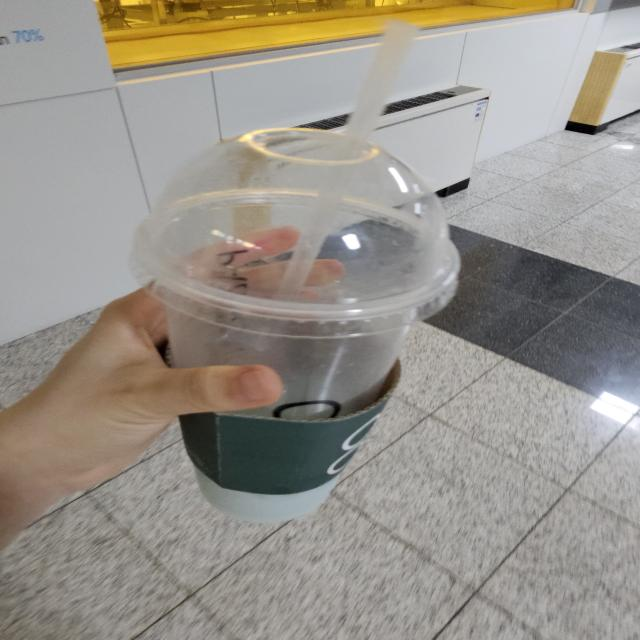cup: (122, 121, 472, 521)
